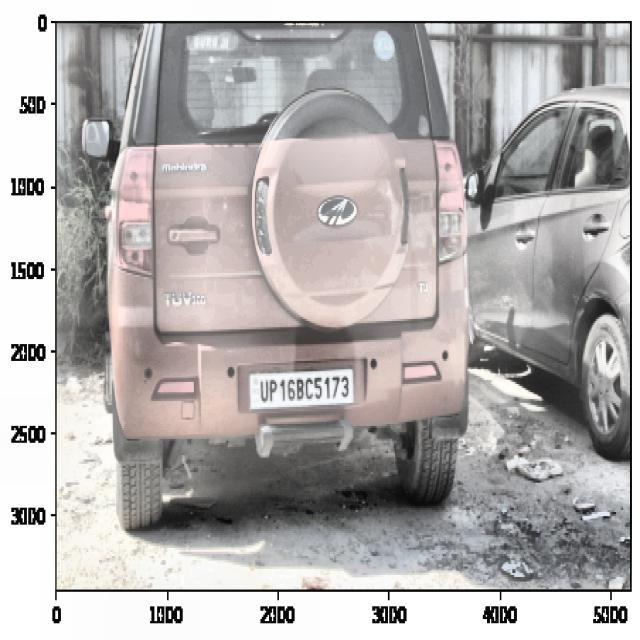license_plate: (256, 372, 353, 408)
